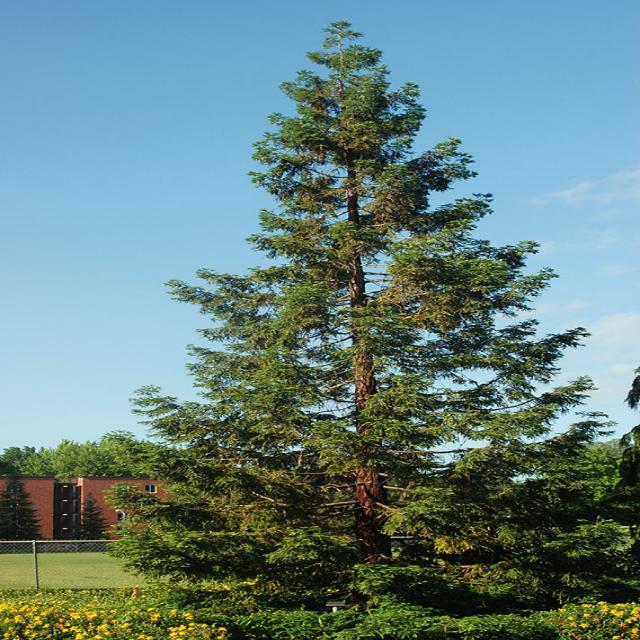Sequoia sempervirens: (110, 19, 604, 600)
